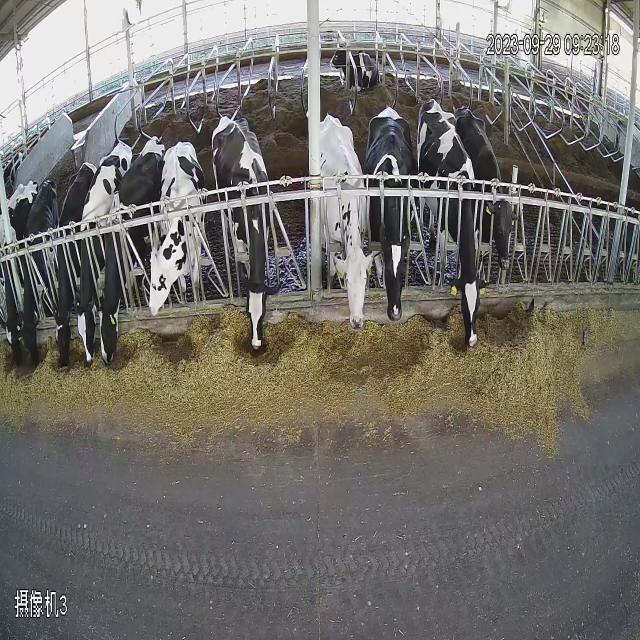feeding: (0, 163, 128, 396), (210, 108, 298, 373), (420, 98, 483, 400), (369, 108, 422, 382), (319, 116, 373, 383)
lying down: (313, 18, 402, 111)
standing: (149, 111, 207, 358), (484, 134, 530, 284)
